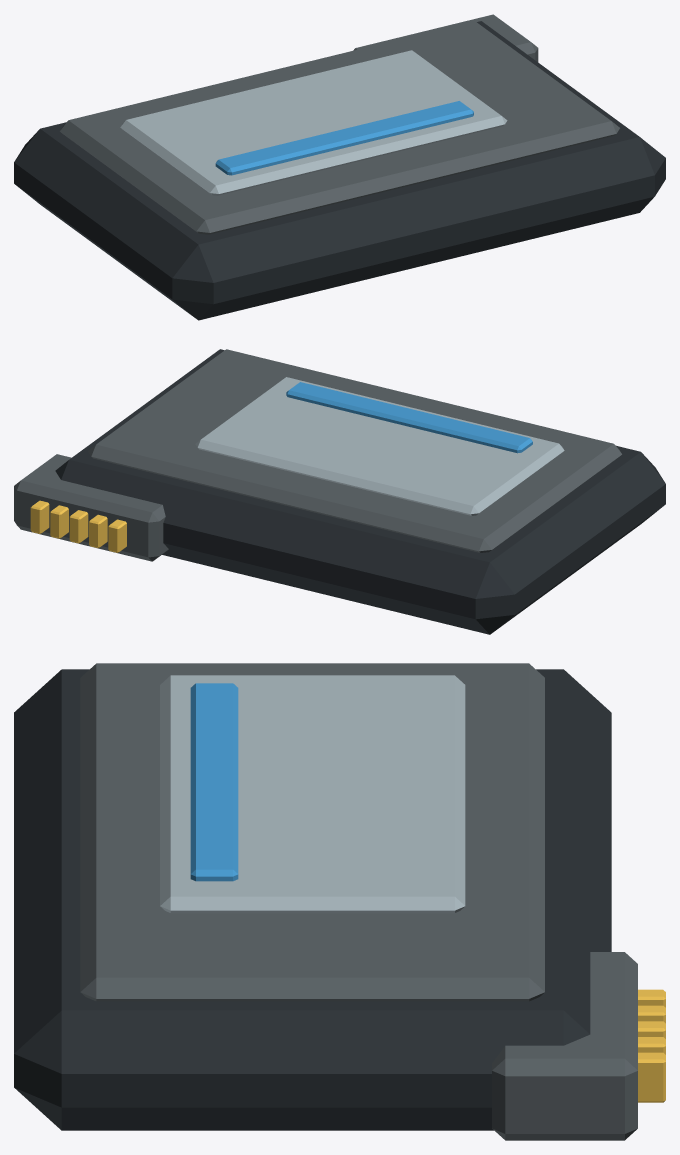
File: FTF_Product_SolidStateDrive_Drop.glb
The picture shows the model from 3 angles, top to bottom: view 1: azimuth 30°, elevation 25°; view 2: azimuth 150°, elevation 25°; view 3: azimuth 270°, elevation 25°; orthographic projection. The views are drawn at different scales.
Parts seen in each view (by area): view 1: SolidStateDrive_Mesh; view 2: SolidStateDrive_Mesh; view 3: SolidStateDrive_Mesh.
Boxes of the visible parts, x1,y1,x2,y2 form: SolidStateDrive_Mesh: (14,14,665,320); SolidStateDrive_Mesh: (14,349,665,634); SolidStateDrive_Mesh: (14,663,665,1140).
Bounding box in the file's own units: 0.3485 × 0.068 × 0.2455.
